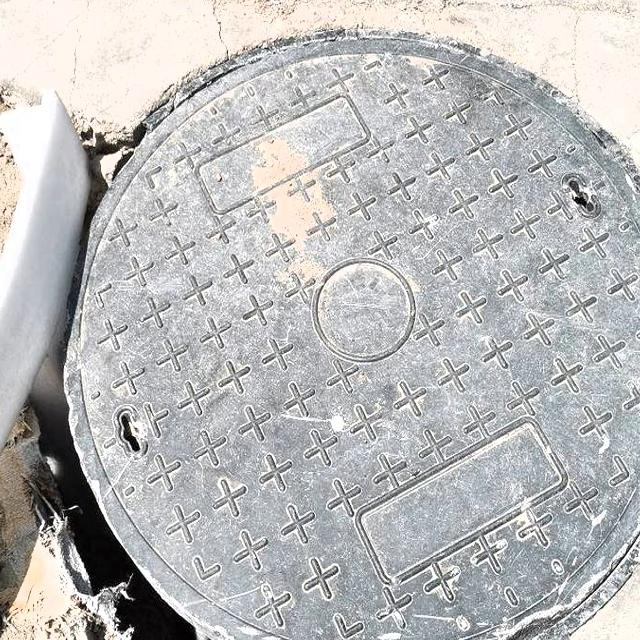circle: (0, 32, 640, 640)
